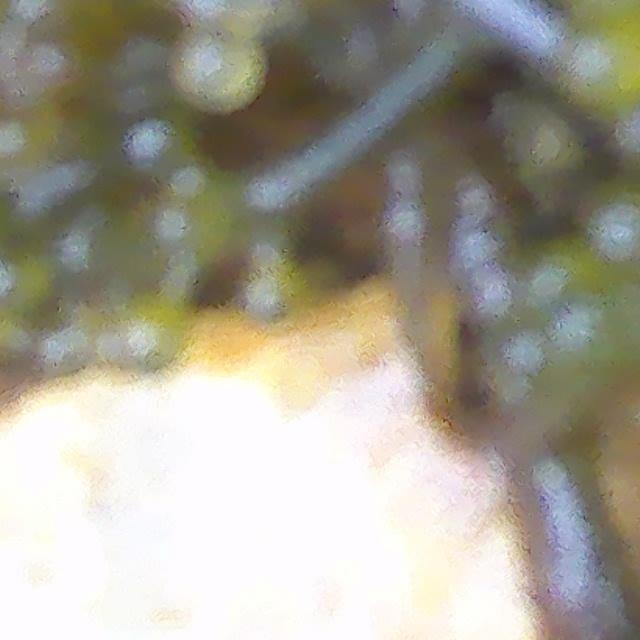SeaGrape: (176, 35, 263, 113), (554, 289, 626, 373), (59, 215, 126, 280), (594, 185, 640, 264), (131, 123, 189, 176)
